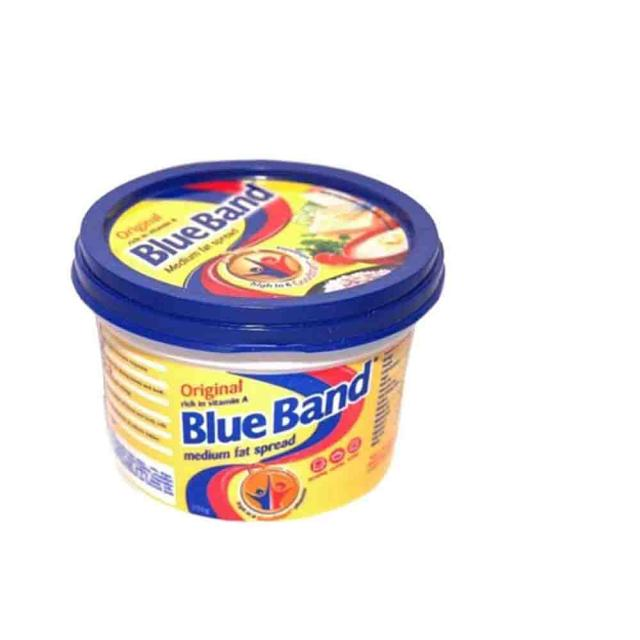butter: (70, 157, 445, 523)
